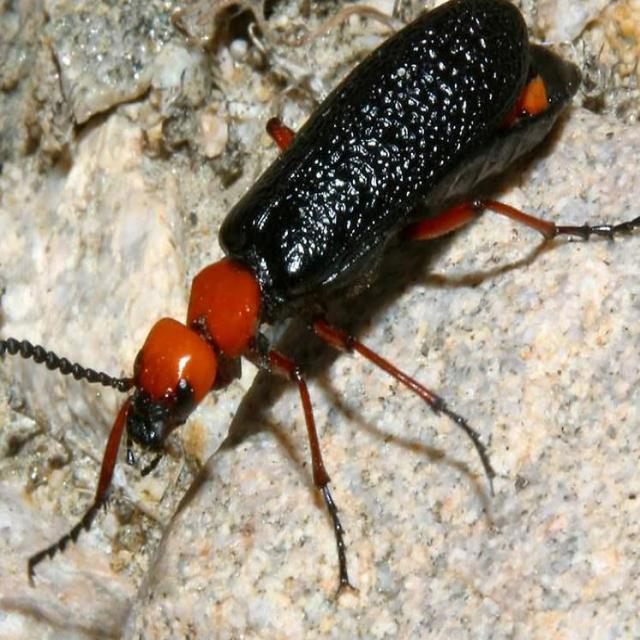BlisterBeetle-Adult-: (0, 1, 594, 590)
